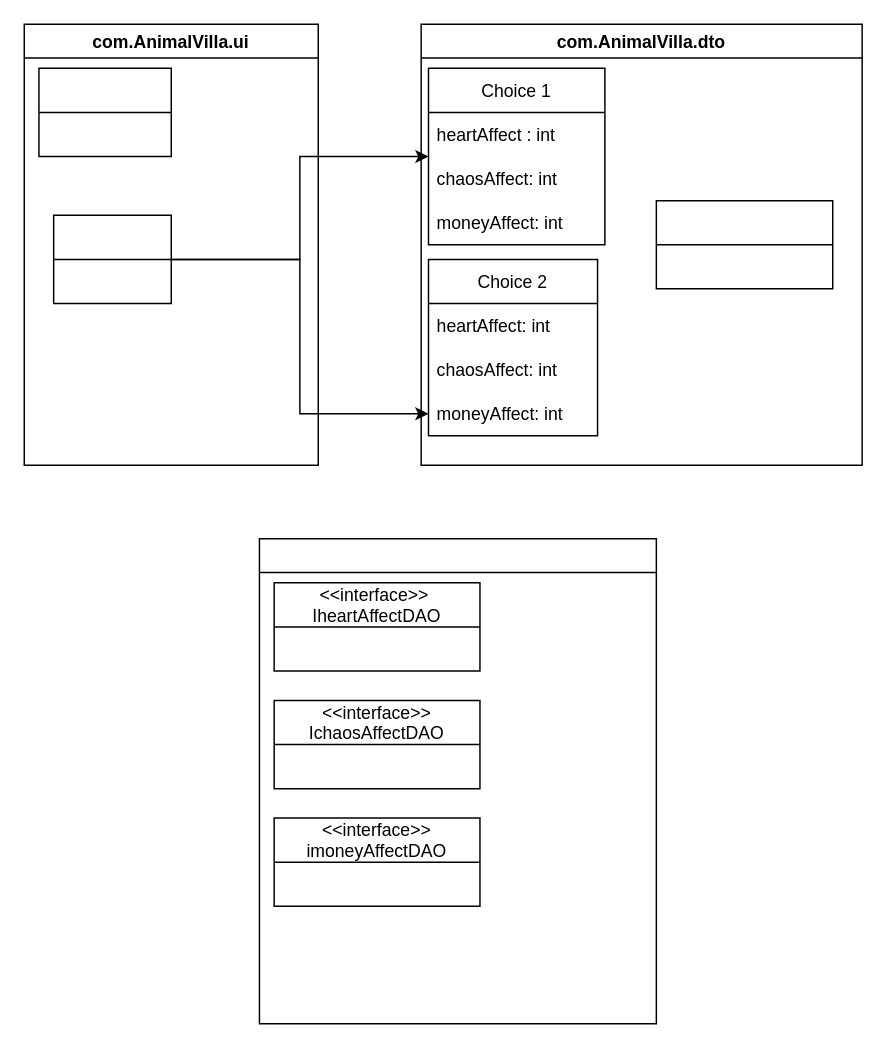
This 886x1048 diagram has some shape labels left out. Each missing label, with the box of its shape:
com.AnimalVilla.dao: (258, 537, 656, 1024)
MainActivity: (52, 214, 171, 304)
Saving: (655, 199, 833, 289)
Title Screen: (37, 67, 171, 157)
